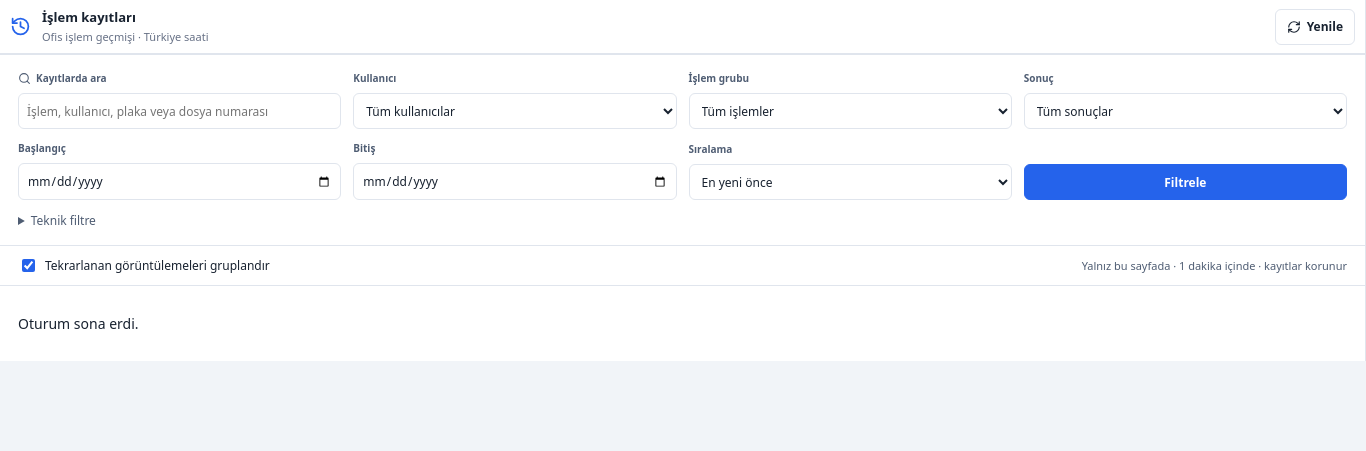
Test: AuditLog › surfaces HTTP 401 and recovers through explicit refresh
Expected: the message reads "Oturum sona erdi.", [18,314,138,333]
What coordinates should you click on to do the following:
click the button "Yenile"
I would click on:
 (1315, 26)
Its box is [1275,8,1355,44].
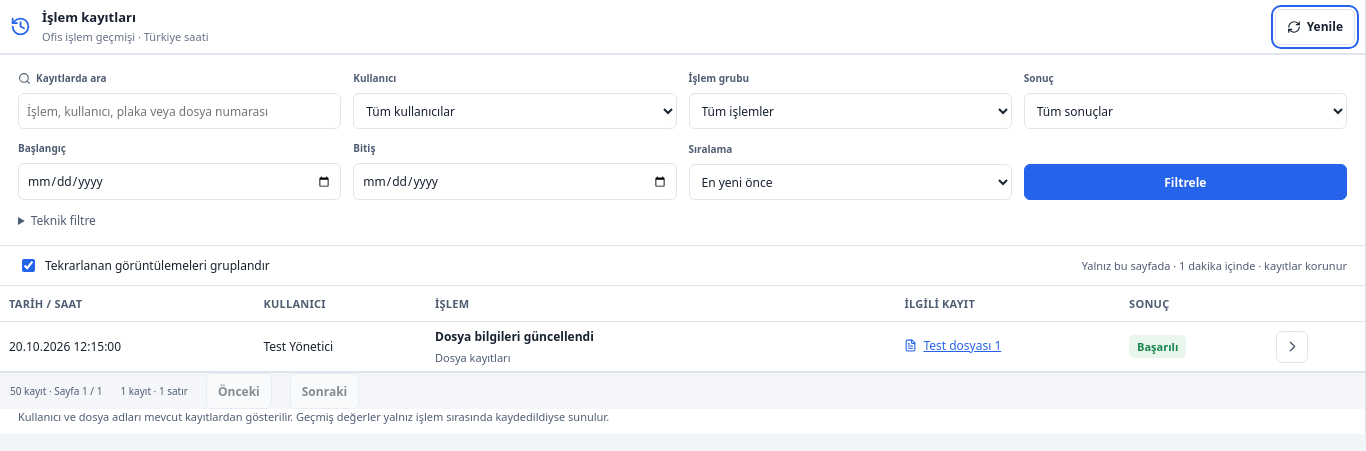
Expected: the link "Test dosyası 1" is shown, [904,337,1001,354]
Expected: the message "Oturum sona erdi." is gone
